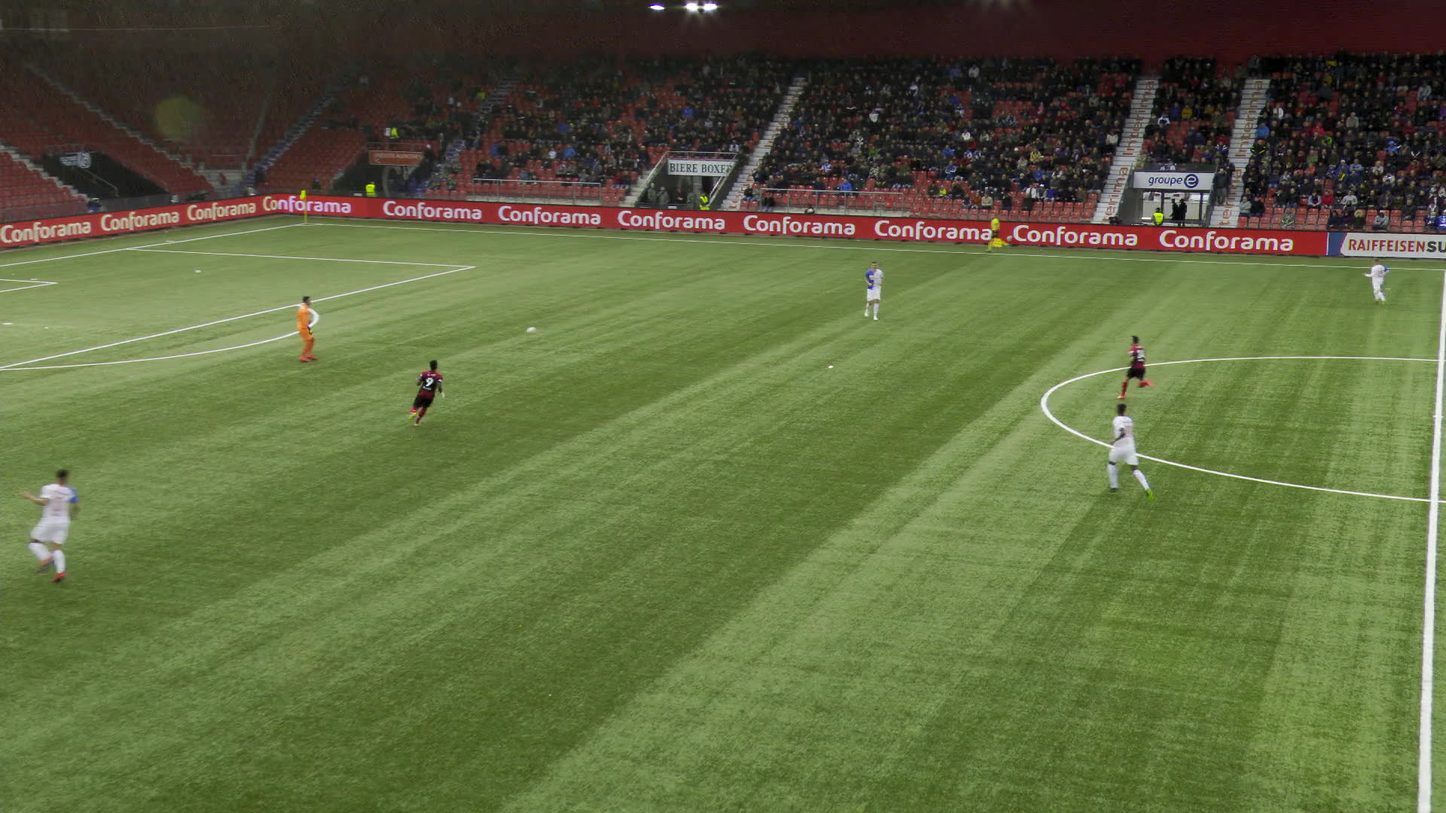ball: (519, 329, 529, 336)
player: (27, 467, 92, 581), (1106, 406, 1158, 500), (410, 360, 445, 430), (1125, 337, 1152, 402), (295, 297, 322, 361), (865, 261, 885, 320), (1366, 258, 1389, 305)
referee: (990, 214, 1007, 253)
